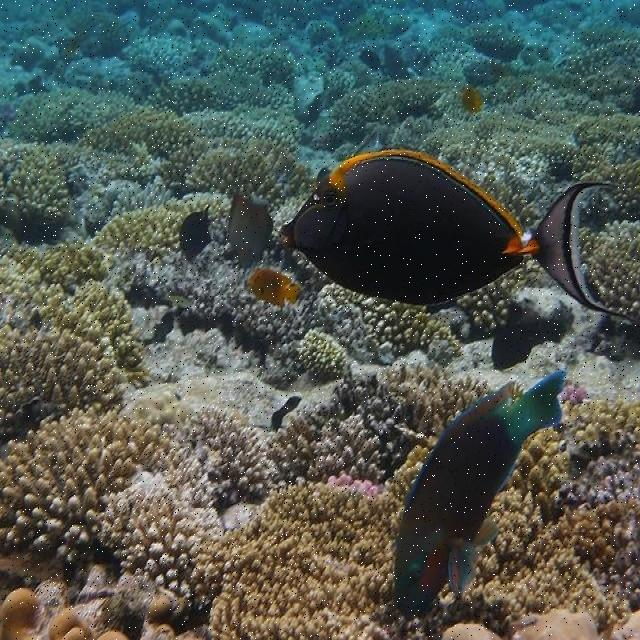fish: (280, 148, 639, 331), (395, 373, 566, 621), (225, 192, 273, 267), (493, 302, 543, 373), (0, 587, 47, 638), (247, 269, 300, 309), (180, 205, 211, 267), (48, 608, 96, 638), (460, 84, 481, 115), (358, 49, 385, 72), (162, 296, 195, 309), (61, 35, 80, 57)
reefs: (190, 444, 639, 639), (0, 402, 199, 595), (365, 102, 639, 233), (2, 224, 151, 438), (268, 357, 490, 493), (136, 241, 312, 386), (463, 1, 639, 116), (506, 385, 639, 524), (136, 403, 287, 510), (311, 282, 464, 367), (159, 136, 310, 212), (312, 79, 449, 150), (1, 83, 143, 147), (180, 92, 306, 154), (143, 68, 287, 118), (91, 197, 224, 250), (1, 139, 82, 224), (79, 105, 200, 159), (306, 12, 414, 70), (428, 24, 493, 118), (75, 174, 172, 235), (209, 25, 296, 90), (583, 220, 639, 315), (65, 56, 156, 104), (122, 32, 195, 83), (64, 12, 131, 58), (299, 328, 347, 377), (324, 64, 357, 106)
